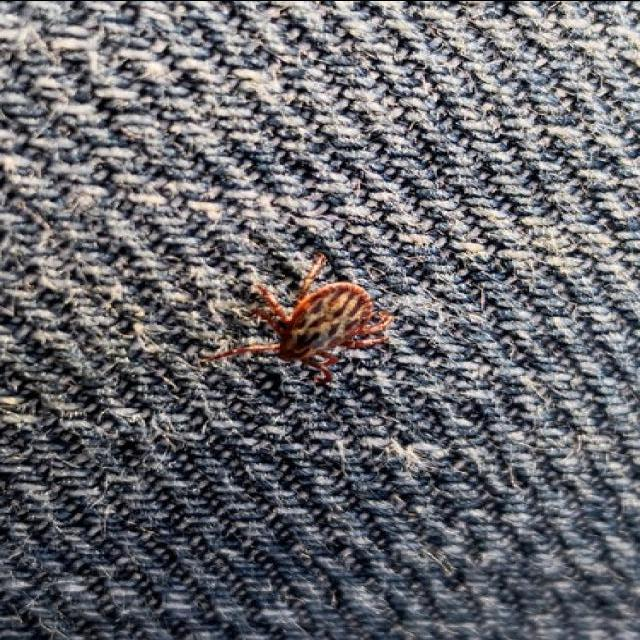Dermacentor Reticulatus-M: (203, 251, 394, 381)
